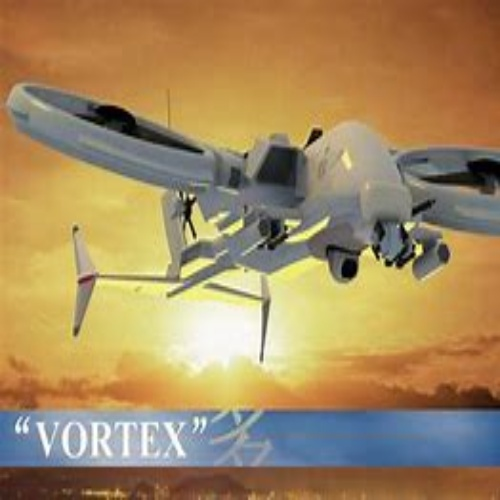uav670: (8, 83, 500, 361)
